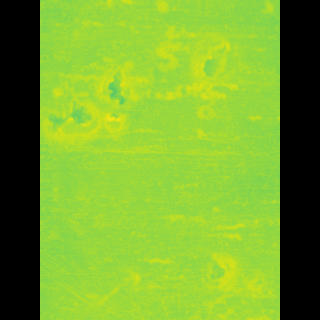Loch: (72, 85, 116, 145), (188, 31, 218, 85), (117, 62, 145, 107), (191, 253, 215, 292), (118, 107, 135, 136), (223, 272, 242, 294)
